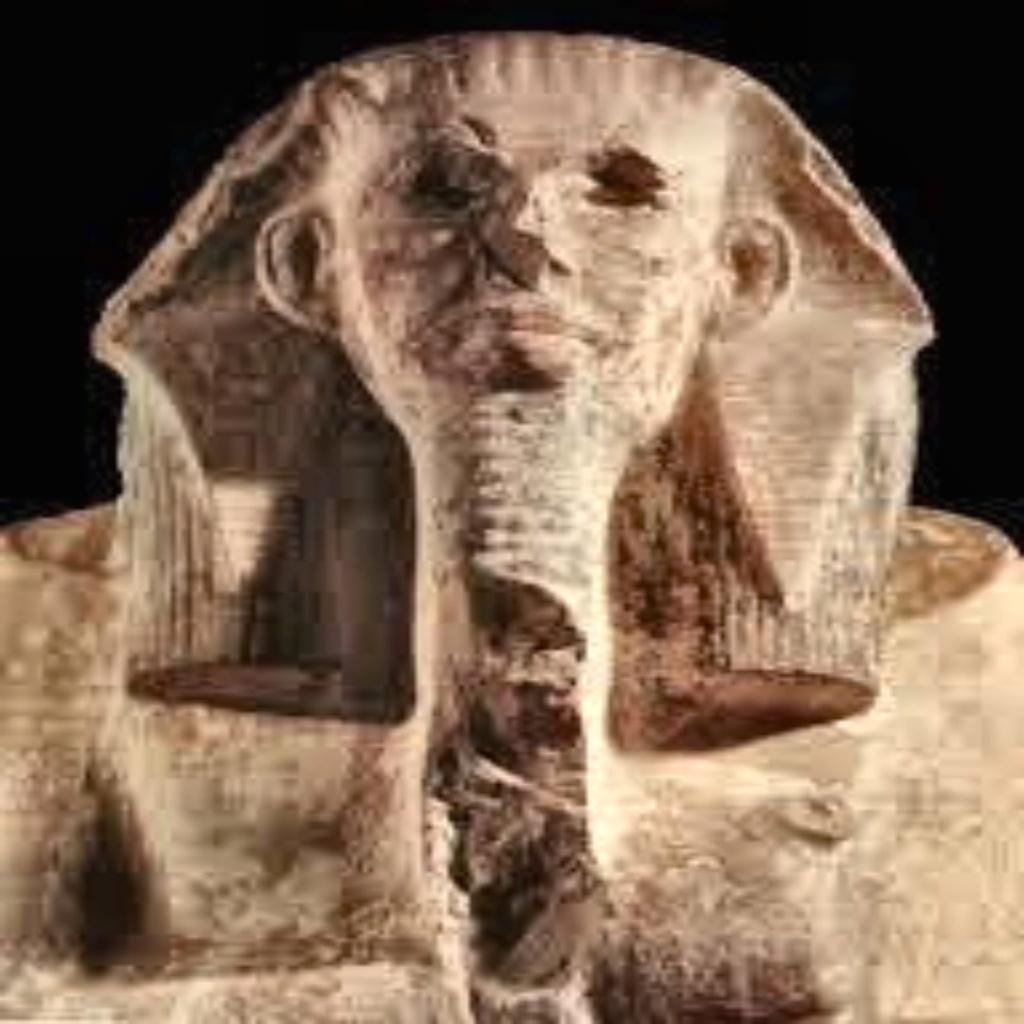Statue of King Zoser: (0, 23, 1019, 1020)
